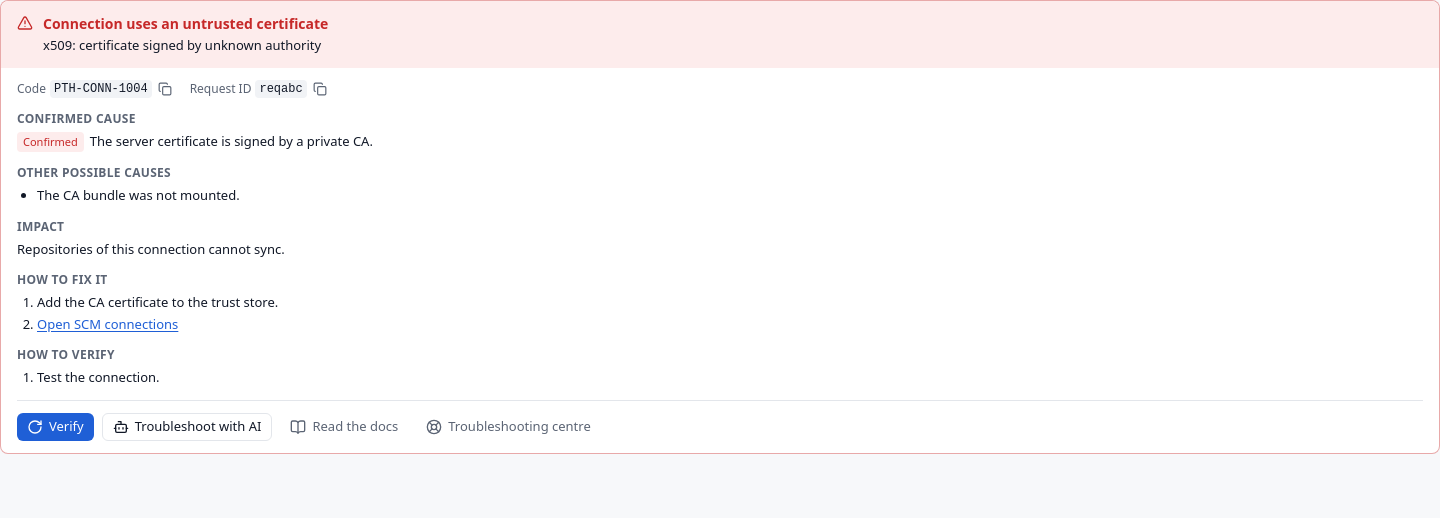
it: ErrorPanel › keeps the catalogue steps when troubleshooting fails
The width and height of the screenshot is (1440, 518).
Click the button "Troubleshoot with AI".
click(187, 426)  # box [102, 412, 272, 440]
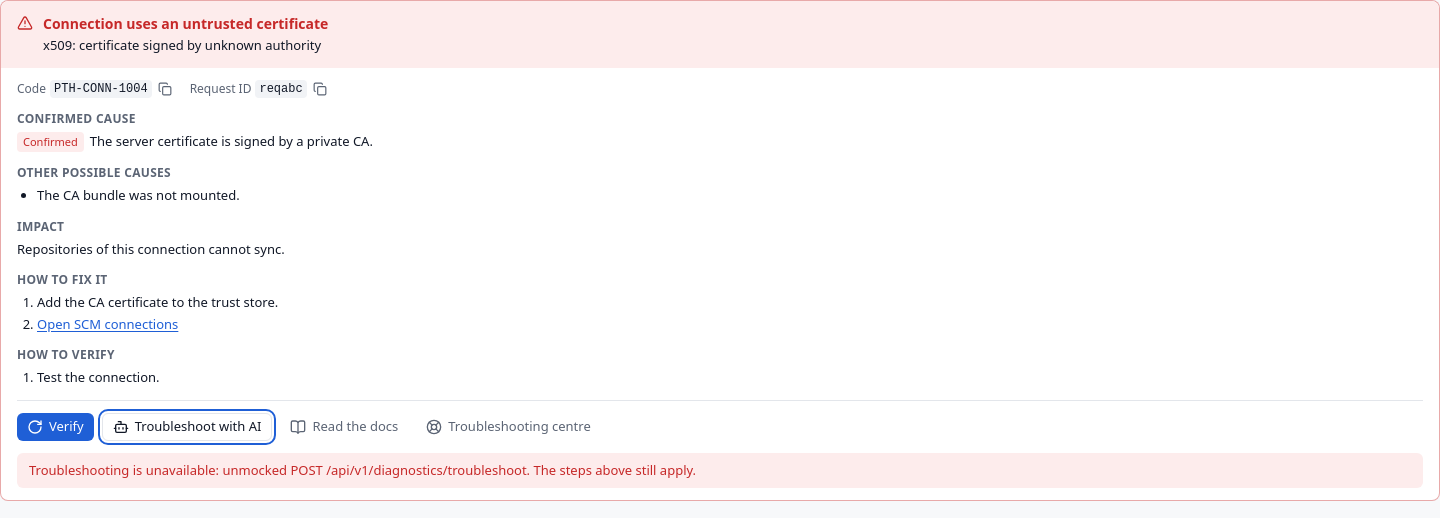
Expected: the text "Repositories of this connection cannot sync." is shown, [17, 240, 285, 258]
Expected: the text "Troubleshooting is unavailable" is shown, [29, 460, 222, 478]
